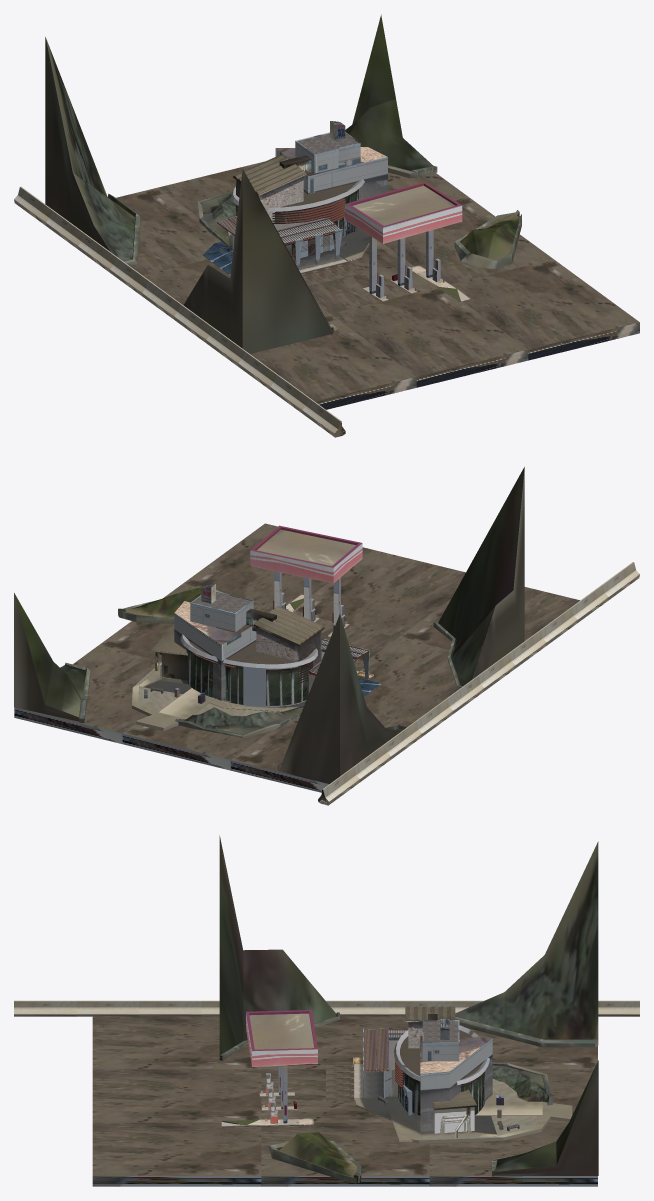
The model's file is skingrafting_compressed2.glb.
The picture shows the model from 3 angles, top to bottom: view 1: azimuth 30°, elevation 25°; view 2: azimuth 150°, elevation 25°; view 3: azimuth 270°, elevation 25°; orthographic projection. The views are drawn at different scales.
Parts seen in each view (by area): view 1: Cylinder.002, Cube.030, Cube.029, Cube.027, Cube.013, Cylinder.001, Cube.017, Cube.002, Cube.001, Cube.007, Cube.032; view 2: Cylinder.002, Cube.030, Cube.029, Cube.027, Cylinder.001, Cube.013, Cube.002, Cube.001, Cube.007; view 3: Cylinder.002, Cube.030, Cube.029, Cube.027, Cube.013, Cylinder.001, Cube.001, Cube.017, Cube.007.
Part boxes in pixels (x1,y1,x2,y2): Cylinder.002: [116, 161, 639, 409]; Cube.030: [45, 14, 521, 353]; Cube.029: [14, 154, 392, 437]; Cube.027: [345, 181, 471, 301]; Cube.013: [275, 132, 387, 193]; Cylinder.001: [231, 179, 364, 240]; Cube.017: [217, 216, 341, 244]; Cube.002: [236, 176, 303, 222]; Cube.001: [273, 173, 387, 251]; Cube.007: [297, 133, 358, 153]; Cube.032: [202, 242, 233, 275]; Cylinder.002: [14, 523, 579, 792]; Cube.030: [14, 467, 524, 783]; Cube.029: [132, 562, 639, 805]; Cube.027: [250, 525, 362, 637]; Cylinder.001: [180, 634, 317, 706]; Cube.013: [174, 591, 374, 680]; Cube.002: [256, 627, 321, 677]; Cube.001: [174, 629, 324, 700]; Cube.007: [192, 592, 251, 613]; Cylinder.002: [92, 1016, 597, 1186]; Cube.030: [219, 835, 598, 1183]; Cube.029: [14, 1000, 639, 1143]; Cube.027: [221, 1010, 317, 1127]; Cube.013: [353, 1020, 492, 1089]; Cylinder.001: [394, 1025, 489, 1118]; Cube.001: [385, 1040, 492, 1132]; Cube.017: [362, 1027, 408, 1071]; Cube.007: [423, 1021, 458, 1042].
Size of what is drawn, in the model's own units: 105 by 54.89 by 161.
Materials: 24 (24 with a texture image).
